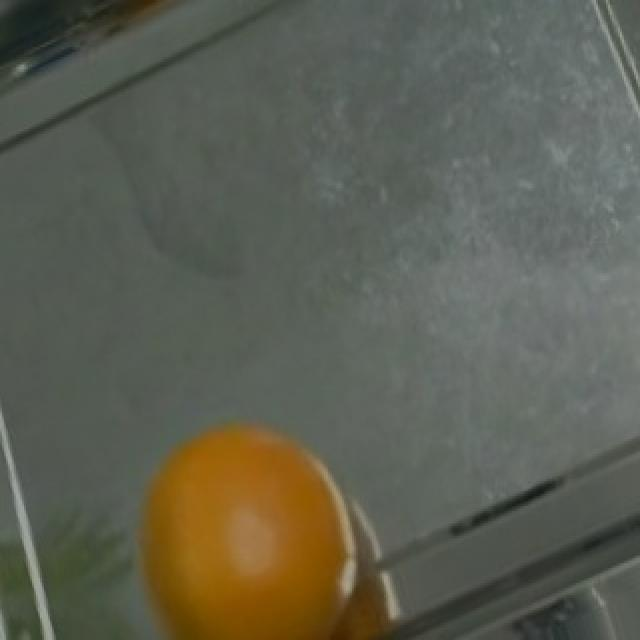Fruit: (112, 402, 374, 640)
